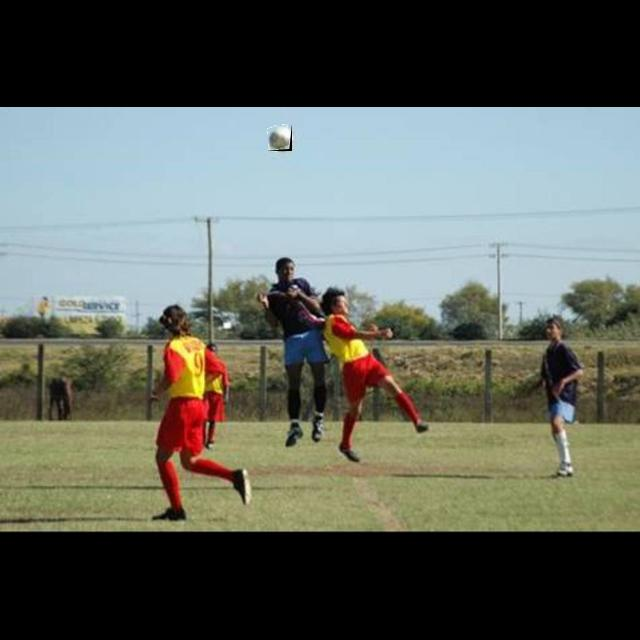Football: (268, 125, 292, 151)
